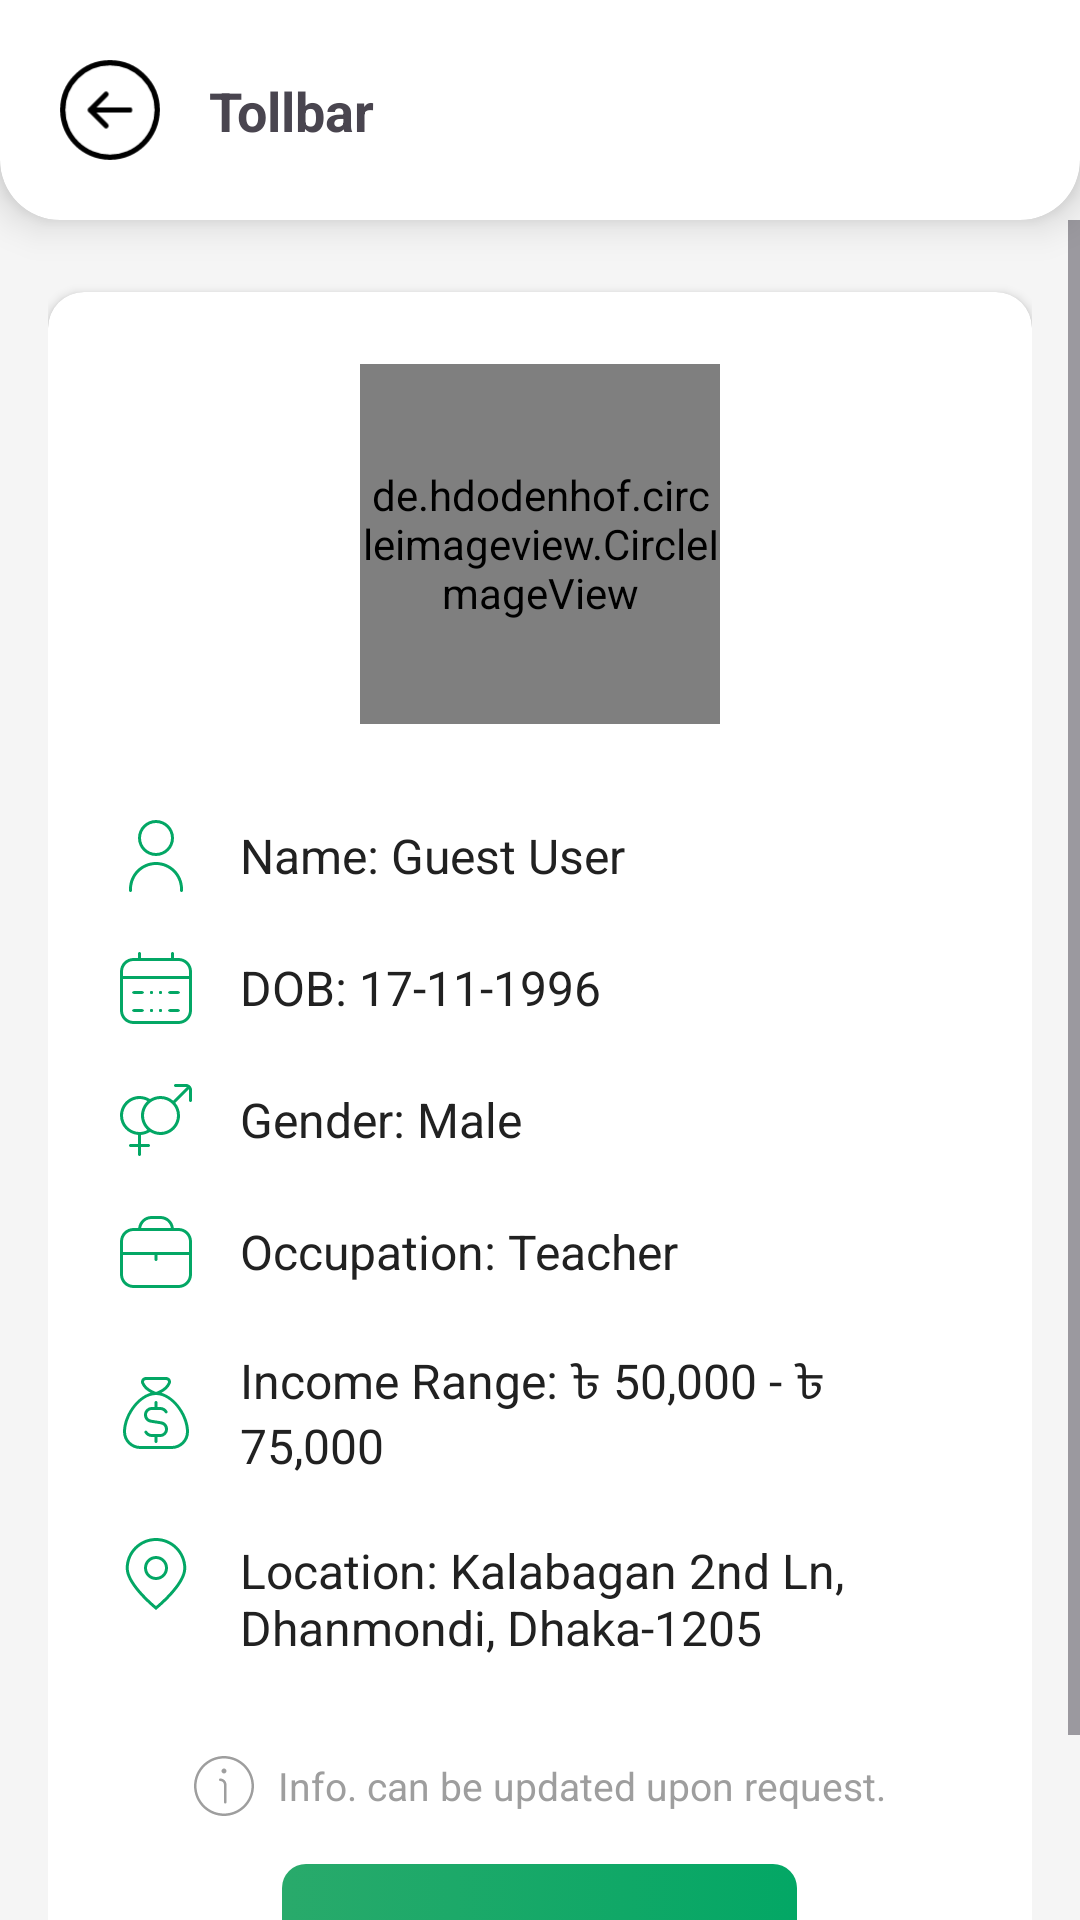

Where to tap for icons on this 1080w x 1920h app screen, as (x=x, y=y):
back: (x=110, y=110)
calendar: (x=156, y=988)
info circle: (x=224, y=1786)
person: (x=156, y=856)
